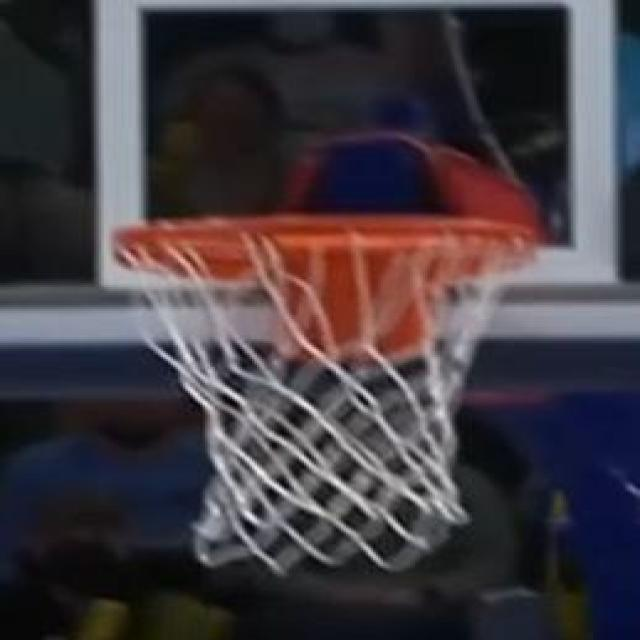hoop: (68, 193, 564, 588)
